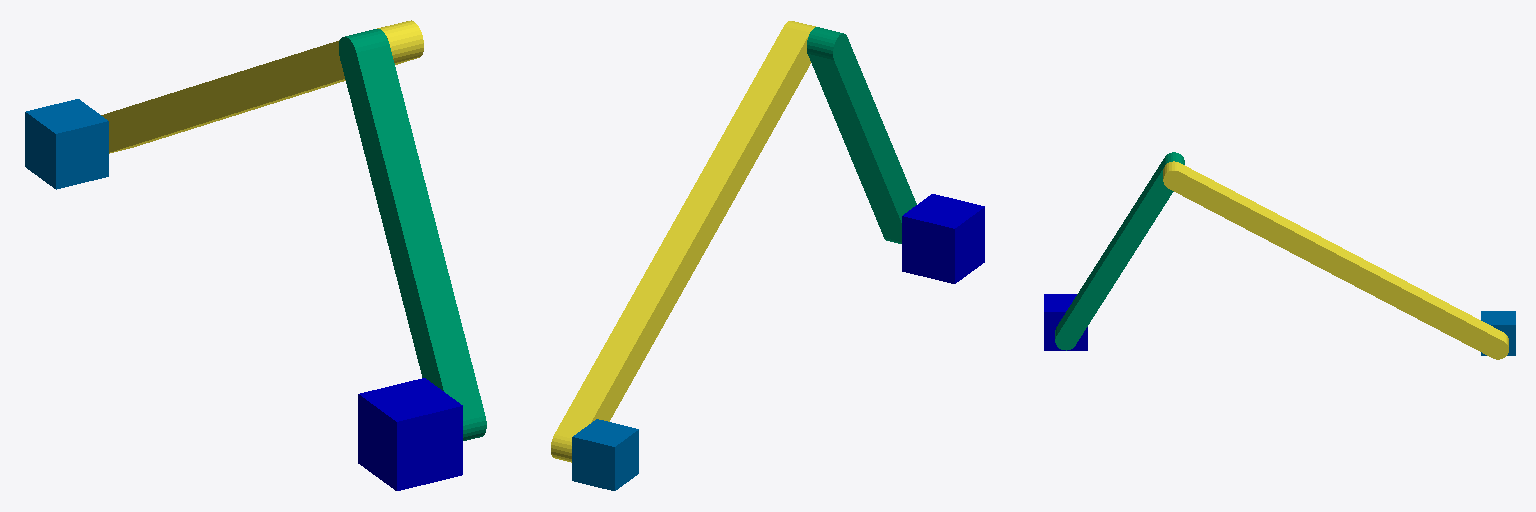
robot.urdf — SliderCrank:
<?xml version="1.0" ?>
<!-- =================================================================================== -->
<!-- |    This document was autogenerated by xacro from sc.xacro                       | -->
<!-- |    EDITING THIS FILE BY HAND IS NOT RECOMMENDED                                 | -->
<!-- =================================================================================== -->
<robot name="SliderCrank">
  <material name="black">
    <color rgba="0.0 0.0 0.0 1.0"/>
  </material>
  <material name="blue">
    <color rgba="0.0 0.0 0.8 1.0"/>
  </material>
  <material name="green">
    <color rgba="0.0 0.8 0.0 1.0"/>
  </material>
  <material name="grey">
    <color rgba="0.2 0.2 0.2 1.0"/>
  </material>
  <material name="orange">
    <color rgba="1.0 0.4235294117647059 0.0392156862745098 1.0"/>
  </material>
  <material name="brown">
    <color rgba="0.8705882352941177 0.8117647058823529 0.7647058823529411 1.0"/>
  </material>
  <material name="red">
    <color rgba="0.8 0.0 0.0 1.0"/>
  </material>
  <material name="white">
    <color rgba="1.0 1.0 1.0 1.0"/>
  </material>
  <!-- ros_control plugin -->
  <gazebo>
    <plugin filename="libgazebo_ros_control.so" name="gazebo_ros_control">
      <robotNamespace>/SliderCrank</robotNamespace>
      <robotSimType>gazebo_ros_control/DefaultRobotHWSim</robotSimType>
    </plugin>
  </gazebo>
  <!-- SC_base -->
  <gazebo reference="SC_base">
    <material>Gazebo/Blue</material>
  </gazebo>
  <!-- SC_link1 -->
  <gazebo reference="SC_link1">
    <mu1>0.2</mu1>
    <mu2>0.2</mu2>
    <material>Gazebo/Red</material>
  </gazebo>
  <!-- SC_link2 -->
  <gazebo reference="SC_link2">
    <mu1>0.2</mu1>
    <mu2>0.2</mu2>
    <material>Gazebo/Red</material>
  </gazebo>
  <!-- SC_Piston -->
  <gazebo reference="SC_Piston">
    <mu1>0.2</mu1>
    <mu2>0.2</mu2>
    <material>Gazebo/Orange</material>
  </gazebo>
  <gazebo>
    <joint name="TRANS01_Base_to_Piston" type="prismatic">
      <child>SC_Piston</child>
      <parent>SC_base</parent>
      <axis>
        <xyz>1 0 0</xyz>
        <limit>
          <lower>-2</lower>
          <upper>2</upper>
        </limit>
        <dynamics>
          <spring_reference>0</spring_reference>
          <spring_stiffness>0</spring_stiffness>
        </dynamics>
        <use_parent_model_frame>1</use_parent_model_frame>
      </axis>
      <origin rpy="0 0 0" xyz="1 0 0.065"/>
    </joint>
  </gazebo>
  <transmission name="tran_REV01_Base_to_Lnik1">
    <type>transmission_interface/SimpleTransmission</type>
    <joint name="REV01_Base_to_Lnik1">
      <hardwareInterface>hardware_interface/EffortJointInterface</hardwareInterface>
    </joint>
    <actuator name="motor_REV01_Base_to_Lnik1">
      <hardwareInterface>hardware_interface/EffortJointInterface</hardwareInterface>
      <mechanicalReduction>1</mechanicalReduction>
    </actuator>
  </transmission>
  <transmission name="tran_REV02_Lnik1_to_Lnik2">
    <type>transmission_interface/SimpleTransmission</type>
    <joint name="REV02_Lnik1_to_Lnik2">
      <hardwareInterface>hardware_interface/EffortJointInterface</hardwareInterface>
    </joint>
    <actuator name="motor_REV02_Lnik1_to_Lnik2">
      <hardwareInterface>hardware_interface/EffortJointInterface</hardwareInterface>
      <mechanicalReduction>1</mechanicalReduction>
    </actuator>
  </transmission>
  <transmission name="tran_REV03_Lnik2_to_Piston">
    <type>transmission_interface/SimpleTransmission</type>
    <joint name="REV03_Lnik2_to_Piston">
      <hardwareInterface>hardware_interface/EffortJointInterface</hardwareInterface>
    </joint>
    <actuator name="motor_REV03_Lnik2_to_Piston">
      <hardwareInterface>hardware_interface/EffortJointInterface</hardwareInterface>
      <mechanicalReduction>1</mechanicalReduction>
    </actuator>
  </transmission>
  <transmission name="tran_TRANS01_Base_to_Piston">
    <type>transmission_interface/SimpleTransmission</type>
    <joint name="TRANS01_Base_to_Piston">
      <hardwareInterface>hardware_interface/EffortJointInterface</hardwareInterface>
    </joint>
    <actuator name="motor_TRANS01_Base_to_Piston">
      <hardwareInterface>hardware_interface/EffortJointInterface</hardwareInterface>
      <mechanicalReduction>1</mechanicalReduction>
    </actuator>
  </transmission>
  <link name="world"/>
  <joint name="fixed" type="fixed">
    <parent link="world"/>
    <child link="SC_base"/>
    <origin rpy="1.5707963267948966 0 1.5707963267948966" xyz="0 0 1.0"/>
  </joint>
  <!-- base -->
  <link name="SC_base">
    <collision>
      <origin rpy="0 0 0" xyz="0 0 0"/>
      <geometry>
        <box size="0.1 0.1 0.1"/>
      </geometry>
    </collision>
    <visual>
      <origin rpy="0 0 0" xyz="0 0 0"/>
      <geometry>
        <box size="0.1 0.1 0.1"/>
        <!-- <mesh filename="package://sc_description/meshes/SC_Base.stl"/> -->
      </geometry>
      <material name="blue"/>
    </visual>
    <inertial>
      <origin rpy="0 0 0" xyz="0 0 0"/>
      <mass value="1"/>
      <inertia ixx="0.001666666666666667" ixy="0.0" ixz="0.0" iyy="0.001666666666666667" iyz="0.0" izz="0.001666666666666667"/>
    </inertial>
  </link>
  <joint name="REV01_Base_to_Lnik1" type="continuous">
    <axis xyz="0 0 1"/>
    <parent link="SC_base"/>
    <child link="SC_link1"/>
    <origin rpy="0 0 -0.5235987755982988" xyz="0 0 0.07500000000000001"/>
    <dynamics damping="0.7"/>
  </joint>
  <!-- link1 -->
  <link name="SC_link1">
    <collision>
      <origin rpy="0 0 0" xyz="0 0.25000000000000006 0"/>
      <geometry>
        <box size="0.05 0.5500000000000002 0.05"/>
      </geometry>
    </collision>
    <visual>
      <!-- <origin rpy="0 0 0" xyz="0 ${cos(60*deg2rad)/2} 0"/> -->
      <origin rpy="0 0 0" xyz="0 0 0"/>
      <geometry>
        <!-- <box size="${link_side} ${link1_length} ${link_side}"/> -->
        <mesh filename="package://sc_description/meshes/SC_link1.stl"/>
      </geometry>
    </visual>
    <inertial>
      <origin rpy="0 0 0" xyz="0 0.25000000000000006 0"/>
      <mass value="1"/>
      <inertia ixx="0.025416666666666678" ixy="0.0" ixz="0.0" iyy="0.00041666666666666675" iyz="0.0" izz="0.025416666666666678"/>
    </inertial>
  </link>
  <joint name="REV02_Lnik1_to_Lnik2" type="continuous">
    <axis xyz="0 0 1"/>
    <parent link="SC_link1"/>
    <child link="SC_link2"/>
    <origin rpy="0 0 -1.5707963267948966" xyz="0 0.5000000000000001 0.05"/>
    <dynamics damping="0.7"/>
  </joint>
  <!-- link2 -->
  <link name="SC_link2">
    <collision>
      <origin rpy="0 0 0" xyz="0 0.4330127018922193 0"/>
      <geometry>
        <box size="0.05 0.9160254037844386 0.05"/>
      </geometry>
    </collision>
    <visual>
      <!-- <origin rpy="0 0 0" xyz="0 ${sin(60*deg2rad)/2} 0"/> -->
      <origin rpy="0 0 0" xyz="0 0 0"/>
      <geometry>
        <!-- <box size="${link_side} ${link2_length} ${link_side}"/> -->
        <mesh filename="package://sc_description/meshes/SC_link2.stl"/>
      </geometry>
    </visual>
    <inertial>
      <origin rpy="0 0 0" xyz="0 0.4330127018922193 0"/>
      <mass value="1"/>
      <inertia ixx="0.07013354503153699" ixy="0.0" ixz="0.0" iyy="0.00041666666666666675" iyz="0.0" izz="0.07013354503153699"/>
    </inertial>
  </link>
  <joint name="REV03_Lnik2_to_Piston" type="continuous">
    <axis xyz="0 0 1"/>
    <parent link="SC_link2"/>
    <child link="SC_Piston"/>
    <origin rpy="0 0 2.0943951023931953" xyz="0 0.8660254037844386 -0.065"/>
    <dynamics damping="0.7"/>
  </joint>
  <!-- piston -->
  <link name="SC_Piston">
    <collision>
      <origin rpy="0 0 0" xyz="0 0 0"/>
      <geometry>
        <box size="0.08000000000000002 0.08000000000000002 0.08000000000000002"/>
      </geometry>
    </collision>
    <visual>
      <geometry>
        <box size="0.08000000000000002 0.08000000000000002 0.08000000000000002"/>
        <!-- <mesh filename="package://sc_description/meshes/SC_Pis.stl"/> -->
      </geometry>
      <origin rpy="0 0 0" xyz="0 0 0"/>
    </visual>
    <inertial>
      <origin rpy="0 0 0" xyz="0 0 0"/>
      <mass value="1"/>
      <inertia ixx="0.0010666666666666672" ixy="0.0" ixz="0.0" iyy="0.0010666666666666672" iyz="0.0" izz="0.0010666666666666672"/>
    </inertial>
  </link>
  <!-- <joint name="TRANS01_Base_to_Piston" type="prismatic">
    <axis xyz="1 0 0"/>
    <parent link="SC_base"/>
    <child link="SC_Piston"/>
    <limit effort="1000.0" lower="-2" upper="2" velocity="0.5"/>
    <origin rpy="0 0 0" xyz="1 0 ${piston_side/2+link_side/2}"/>
    <dynamics damping="0.7"/>
  </joint> -->
</robot>

--- Render facts (derived) ---
Views: 3 orthographic renders of the robot side by side, from view 1: azimuth 30°, elevation 25°; view 2: azimuth 150°, elevation 25°; view 3: azimuth 270°, elevation 25°.
Robot: SliderCrank — 5 links, 4 joints (3 continuous, 1 fixed); root link world; default pose: every joint at zero.
Visible links, largest first — view 1: SC_link1, SC_link2, SC_base, SC_Piston; view 2: SC_link2, SC_link1, SC_base, SC_Piston; view 3: SC_link2, SC_link1, SC_base, SC_Piston.
Boxes of the visible links, bbox=[...] form: SC_link1: bbox=[339, 29, 486, 440]; SC_link2: bbox=[101, 20, 423, 153]; SC_base: bbox=[358, 378, 462, 490]; SC_Piston: bbox=[25, 99, 108, 189]; SC_link2: bbox=[551, 21, 815, 462]; SC_link1: bbox=[807, 27, 916, 243]; SC_base: bbox=[902, 194, 984, 283]; SC_Piston: bbox=[572, 419, 638, 490]; SC_link2: bbox=[1163, 161, 1508, 359]; SC_link1: bbox=[1055, 152, 1184, 350]; SC_base: bbox=[1044, 294, 1087, 350]; SC_Piston: bbox=[1481, 311, 1515, 355].
Bounding box of the posed robot: 0.2 × 1.09 × 0.508 m (x, y, z).
Meshes: 2 distinct files referenced, 2 mesh visuals loaded (2 binary STL).